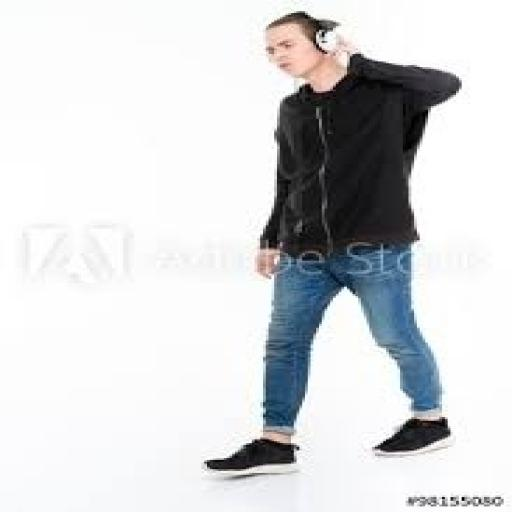listening_to_music: (198, 9, 464, 477)
